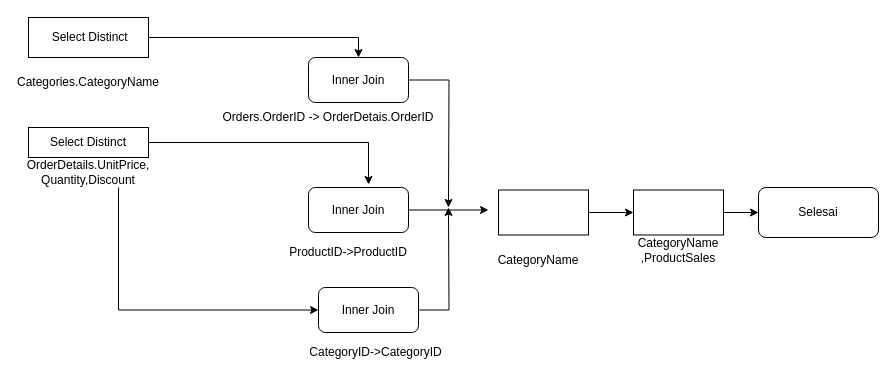
Image size: 896x385. Some labels were removed from this diagram. Here are the shapes that lost their labels. From the top down, the centre of each, then its label:
At (543,212): "Group by when".
At (678,212): "Order by".
